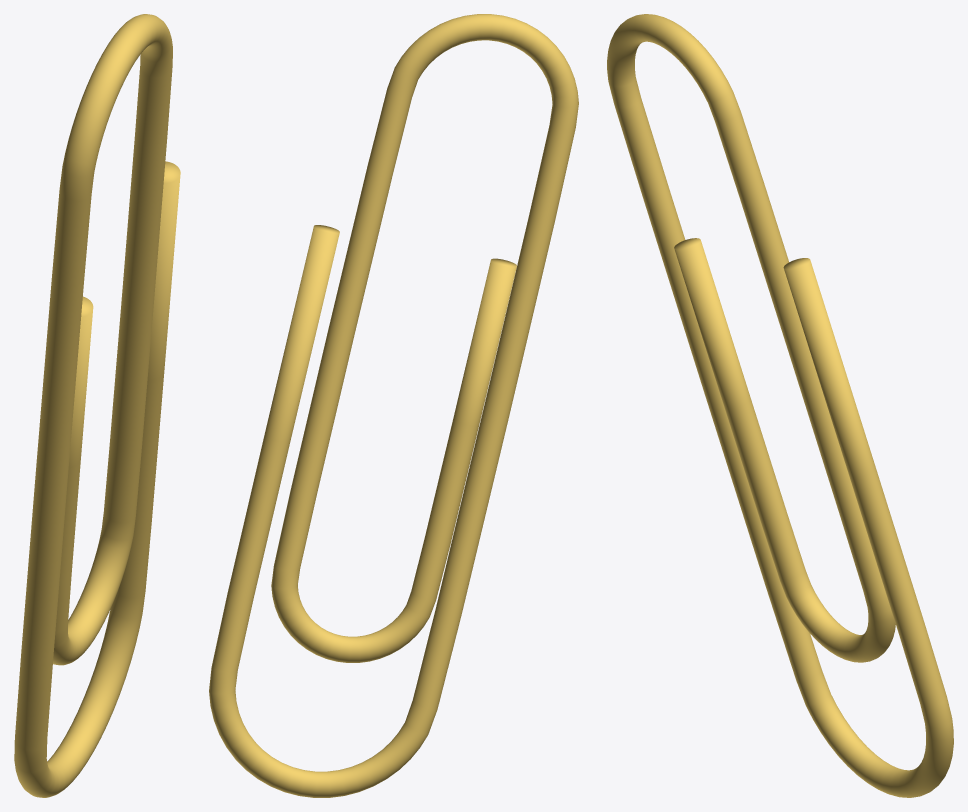
3 renders of one model, left to right at view 1: azimuth 30°, elevation 25°; view 2: azimuth 150°, elevation 25°; view 3: azimuth 270°, elevation 25°, orthographic. The views are drawn at different scales.
Visible parts, largest first — view 1: Cylinder.010; view 2: Cylinder.010; view 3: Cylinder.010.
Part boxes in pixels (<box>): Cylinder.010: <box>14,14,180,797</box>; Cylinder.010: <box>209,14,578,797</box>; Cylinder.010: <box>607,14,953,797</box>.
Bounding box in the file's own units: 0.3518 × 1.12 × 0.4725.
